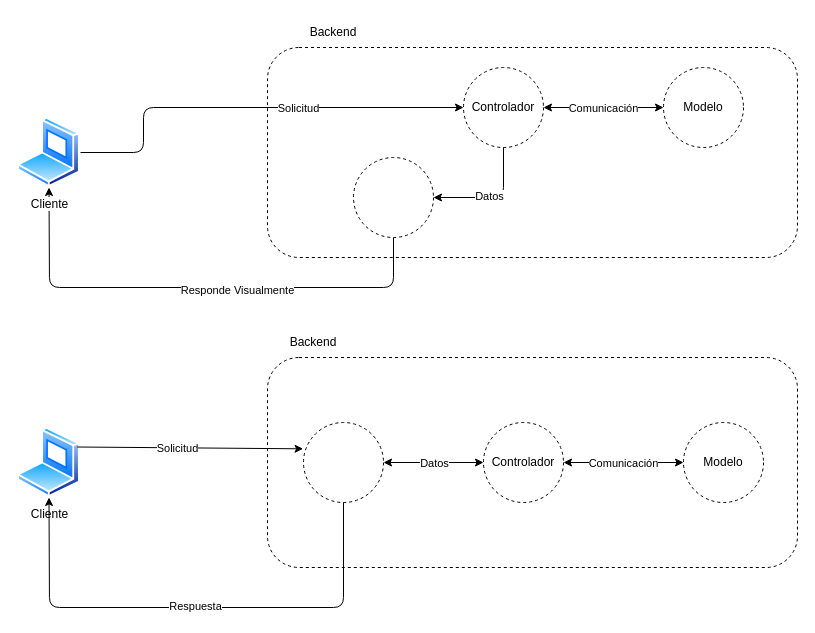
This 815x633 diagram has some shape labels left out. Each missing label, with the centre of its shape:
"Ruta" goes at point 343,462.
"Vista" goes at point 393,197.
